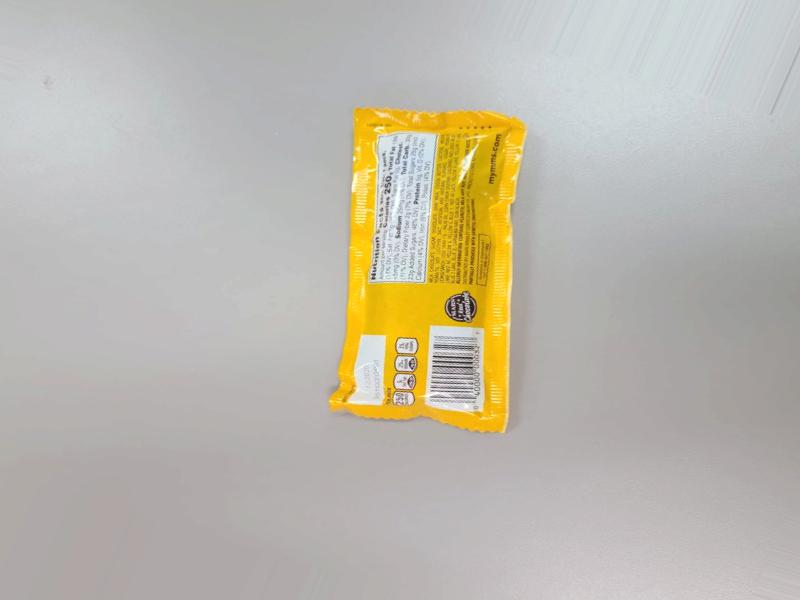m&m: (321, 123, 508, 447)
